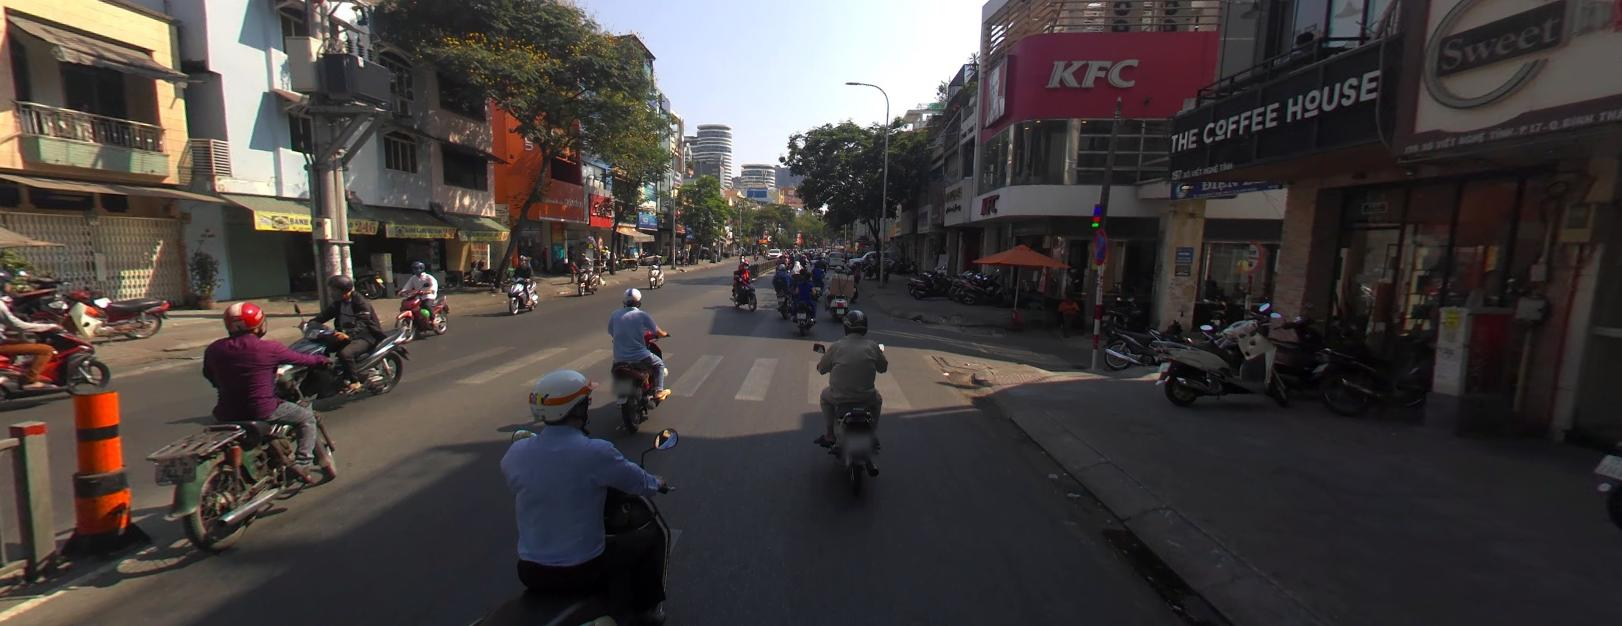Cam dung va do: (1092, 227, 1107, 264)
